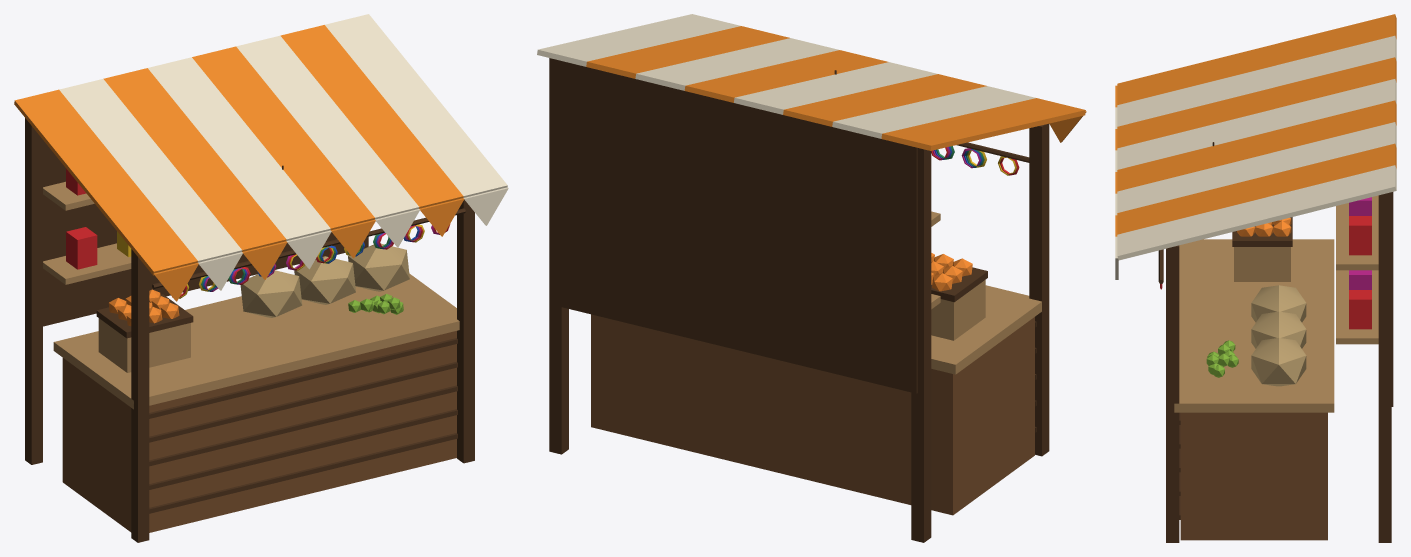
Rendered from bazaar_stall.glb.
3 views of the same model, side by side, from view 1: azimuth 30°, elevation 25°; view 2: azimuth 150°, elevation 25°; view 3: azimuth 270°, elevation 25° (orthographic). The views are drawn at different scales.
Visible parts, largest first — view 1: Bazaar_Stall; view 2: Bazaar_Stall; view 3: Bazaar_Stall.
Part boxes in pixels (x1,y1,x2,y2): Bazaar_Stall: [14, 14, 508, 542]; Bazaar_Stall: [537, 14, 1086, 542]; Bazaar_Stall: [1115, 14, 1396, 542].
Bounding box in the file's own units: 2.5 × 2.43 × 1.72.
